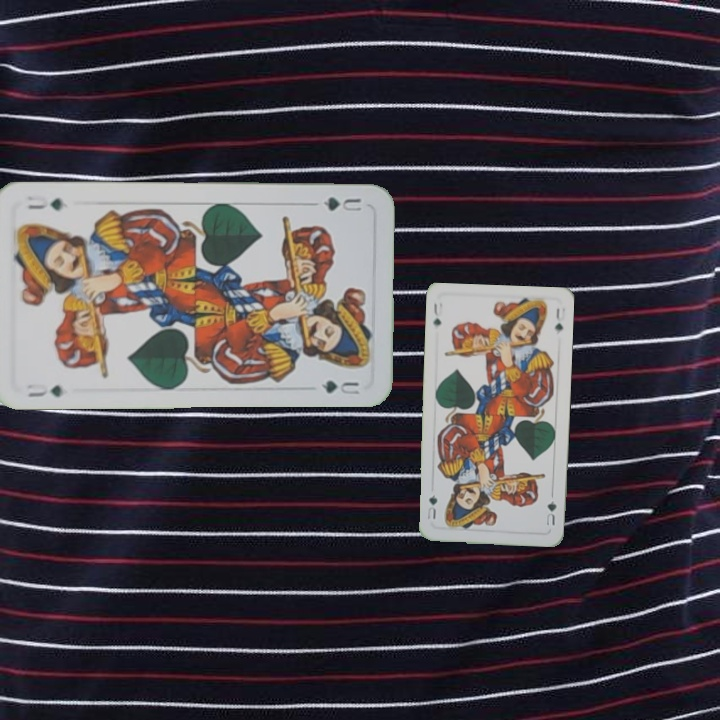GU: (309, 193, 364, 214), (24, 381, 66, 399), (542, 497, 559, 528), (429, 299, 444, 329)
